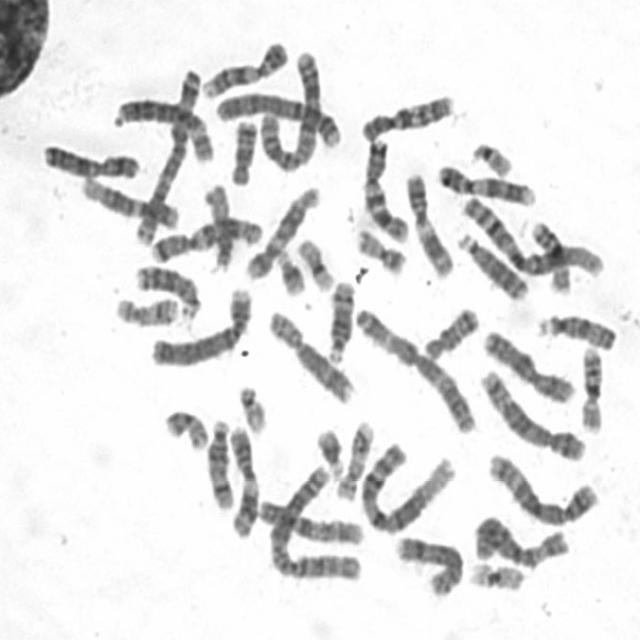A1: (455, 187, 607, 281), (355, 436, 457, 536)
A2: (262, 458, 366, 584), (253, 43, 324, 174)
A3: (348, 298, 480, 435), (129, 58, 205, 247)
B4: (146, 280, 256, 369), (209, 85, 346, 149)
B5: (474, 362, 589, 464), (482, 445, 602, 527)
C10: (252, 489, 367, 547), (355, 86, 457, 143)
C11: (399, 163, 456, 280), (222, 418, 262, 540)
C12: (240, 178, 323, 282), (76, 169, 182, 229)
C6: (110, 90, 217, 164), (468, 506, 572, 570)
C7: (144, 208, 265, 264), (358, 129, 411, 245)
C8: (262, 302, 357, 406), (390, 528, 466, 599)
C9: (196, 32, 291, 100), (432, 157, 538, 208)
D13: (452, 224, 531, 302), (130, 256, 203, 322)
D14: (321, 272, 358, 365), (202, 412, 236, 511)
D15: (531, 306, 619, 352), (199, 177, 236, 272)
E16: (524, 212, 574, 296), (575, 337, 607, 434)
E17: (331, 413, 377, 502), (110, 288, 181, 329)
E18: (417, 299, 481, 361), (226, 111, 260, 187)
F19: (293, 232, 338, 293), (465, 554, 528, 593)
F20: (351, 220, 409, 276), (159, 401, 211, 452)
G21: (312, 419, 348, 479), (270, 242, 308, 298)
G22: (465, 134, 516, 178), (233, 377, 270, 435)
X: (478, 321, 579, 405), (37, 136, 143, 182)
